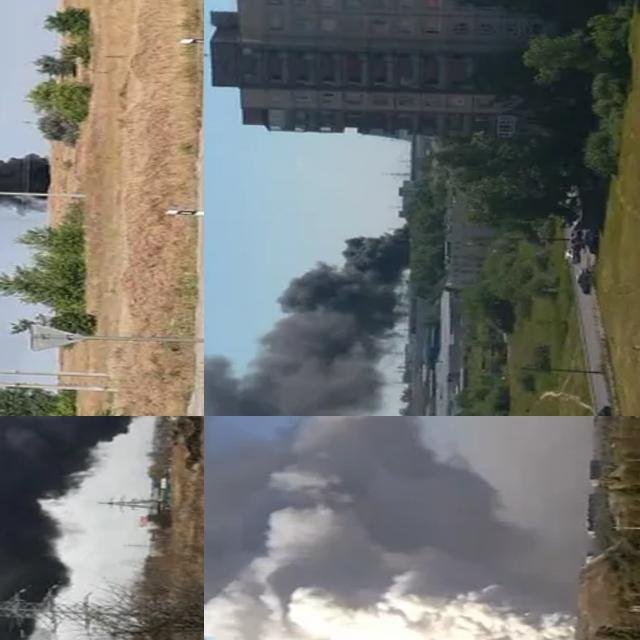smoke: (204, 416, 584, 640), (204, 204, 410, 416), (0, 416, 157, 640)
